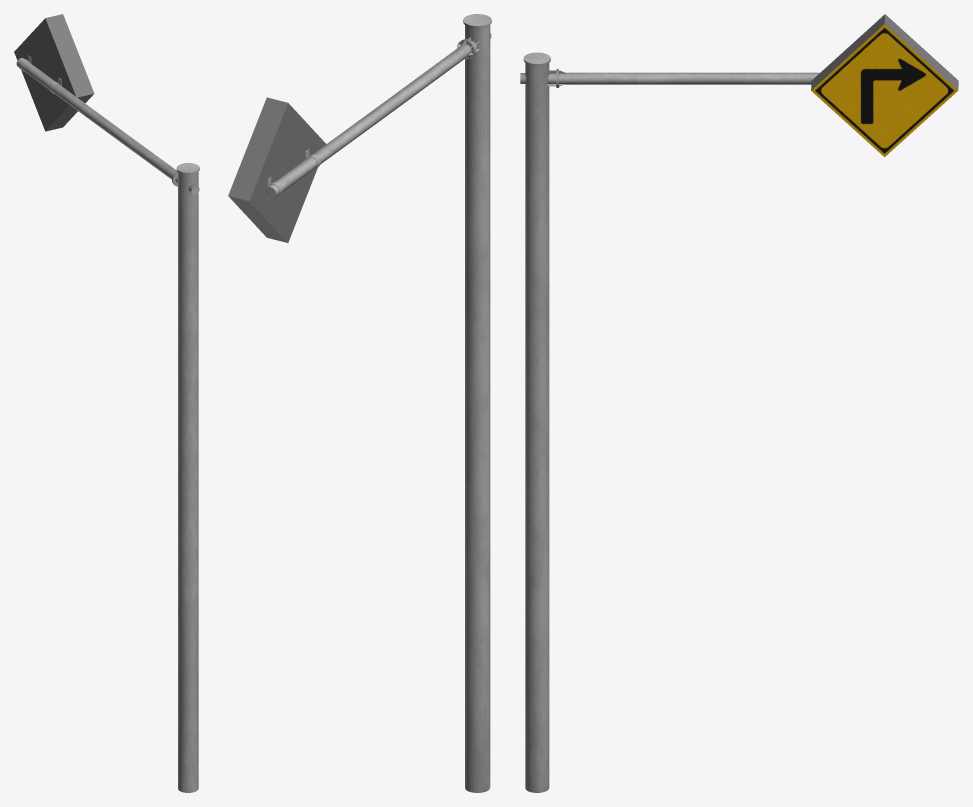
The model's file is Preset_Sign203OH.fbx.
3 renders of one model, left to right at view 1: azimuth 30°, elevation 25°; view 2: azimuth 150°, elevation 25°; view 3: azimuth 270°, elevation 25°, orthographic. The views are drawn at different scales.
Visible parts, largest first — view 1: PoleVD, Frame_Back, PoleHD, Frame_Side; view 2: PoleVD, Frame_Back, PoleHD, Frame_Side; view 3: PoleVD, Sign203, PoleHD, Frame_Side.
Part boxes in pixels (<box>): PoleVD: <box>176,163,199,792</box>; Frame_Back: <box>14,18,75,130</box>; PoleHD: <box>16,55,199,194</box>; Frame_Side: <box>45,14,94,131</box>; PoleVD: <box>463,14,491,792</box>; Frame_Back: <box>249,103,326,242</box>; PoleHD: <box>265,33,491,199</box>; Frame_Side: <box>228,97,287,242</box>; PoleVD: <box>523,52,550,792</box>; Sign203: <box>811,24,957,157</box>; PoleHD: <box>520,69,819,87</box>; Frame_Side: <box>811,14,958,90</box>.
Size of the model in its own units: 32.71 by 322 by 630.
4 materials, 4 textured.
